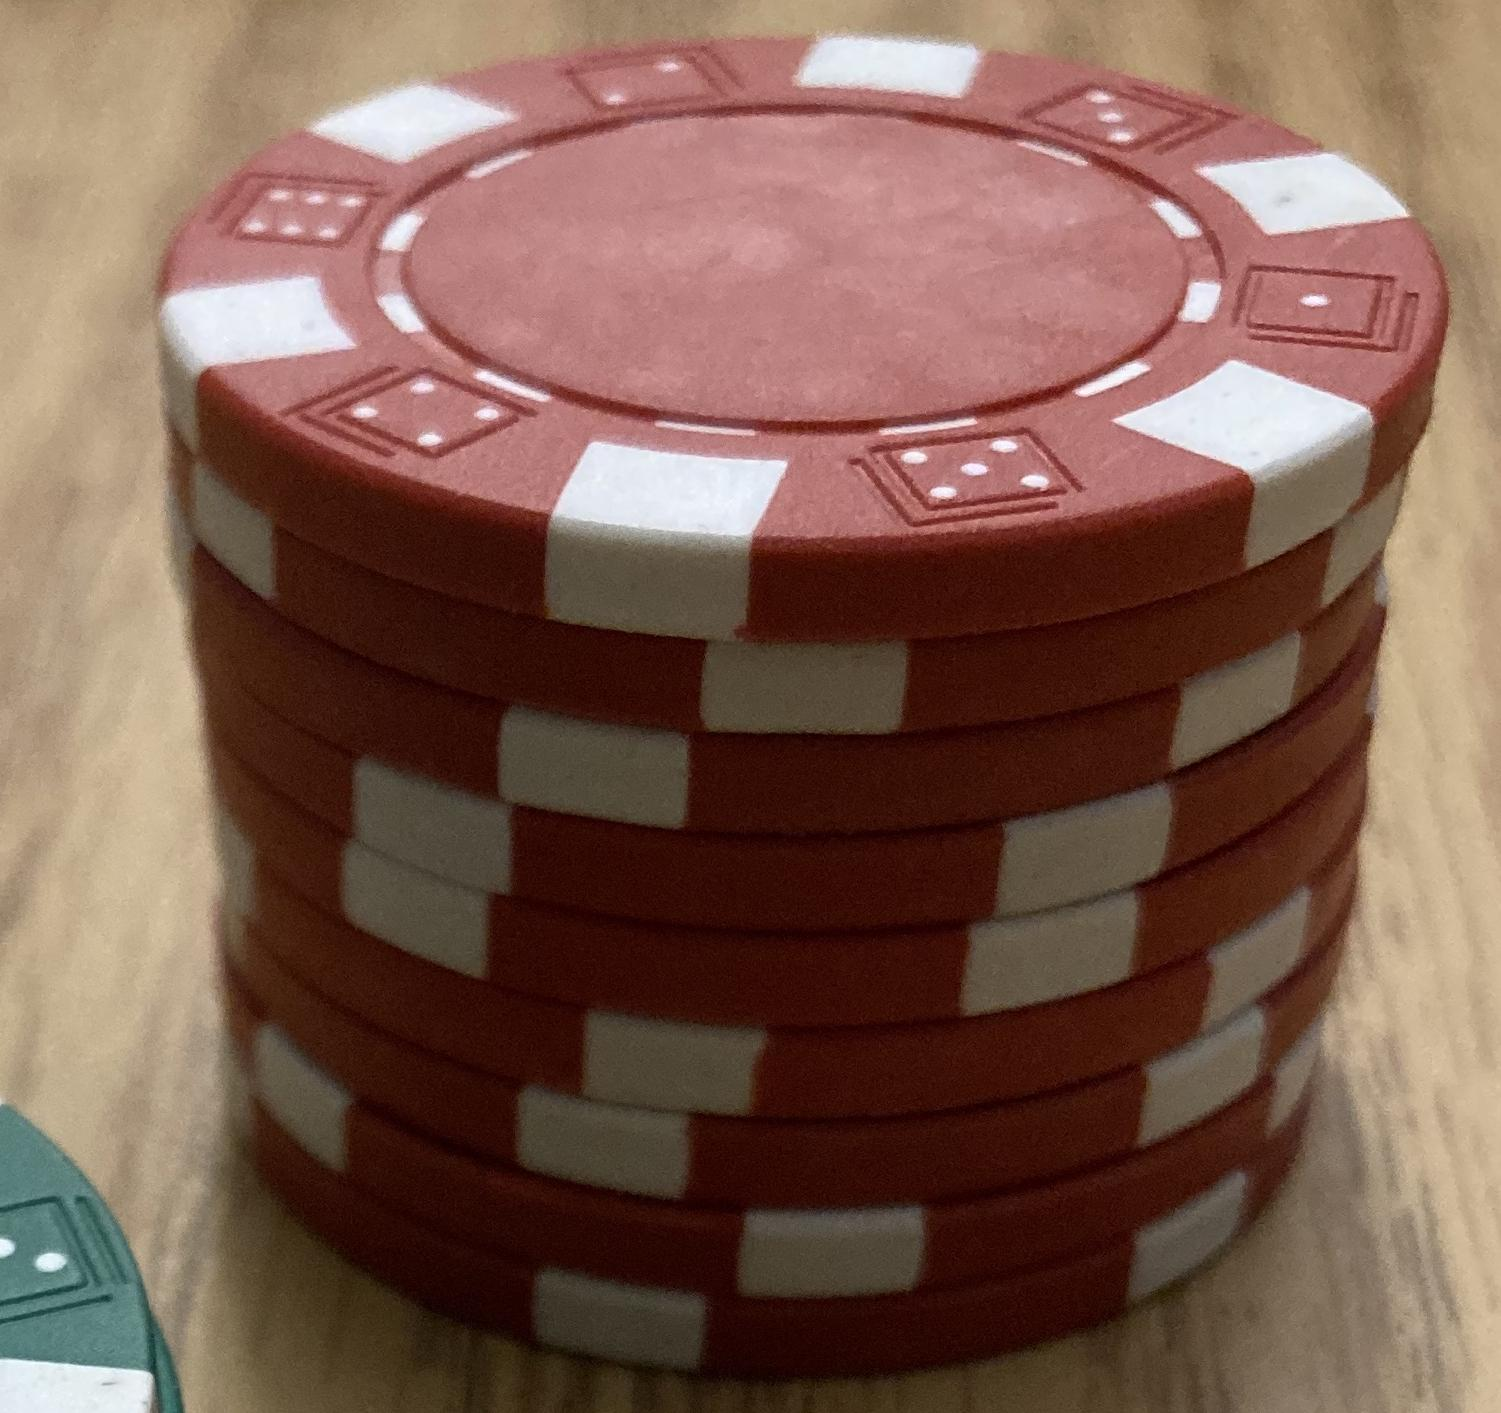Chip: (1, 1, 1501, 1413)
